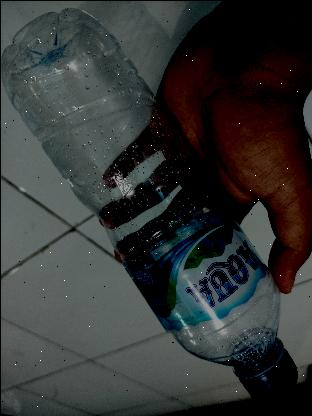Plastic Bottle: (0, 6, 302, 404)
